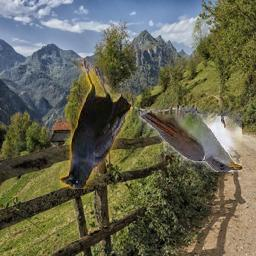Crow: (60, 59, 132, 190)
Cuckoo: (140, 108, 243, 173)
